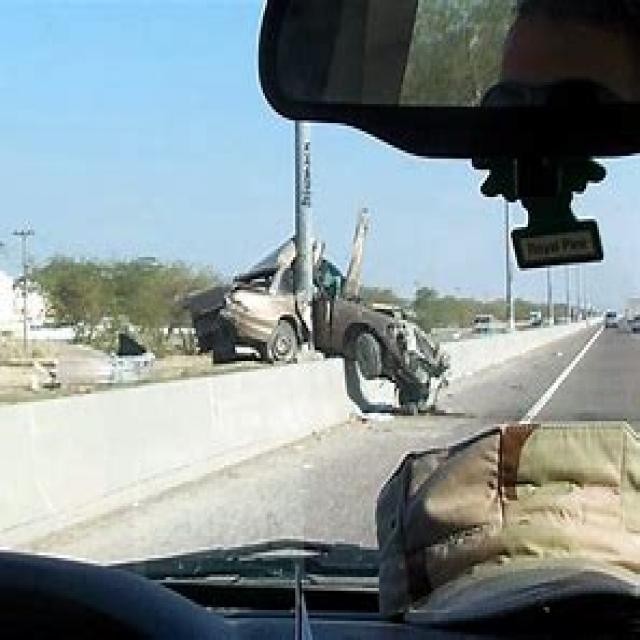Accident: (223, 200, 450, 423)
